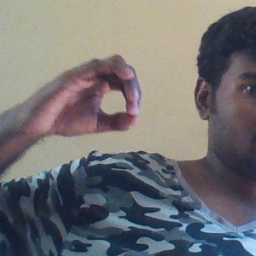O: (33, 51, 147, 139)
